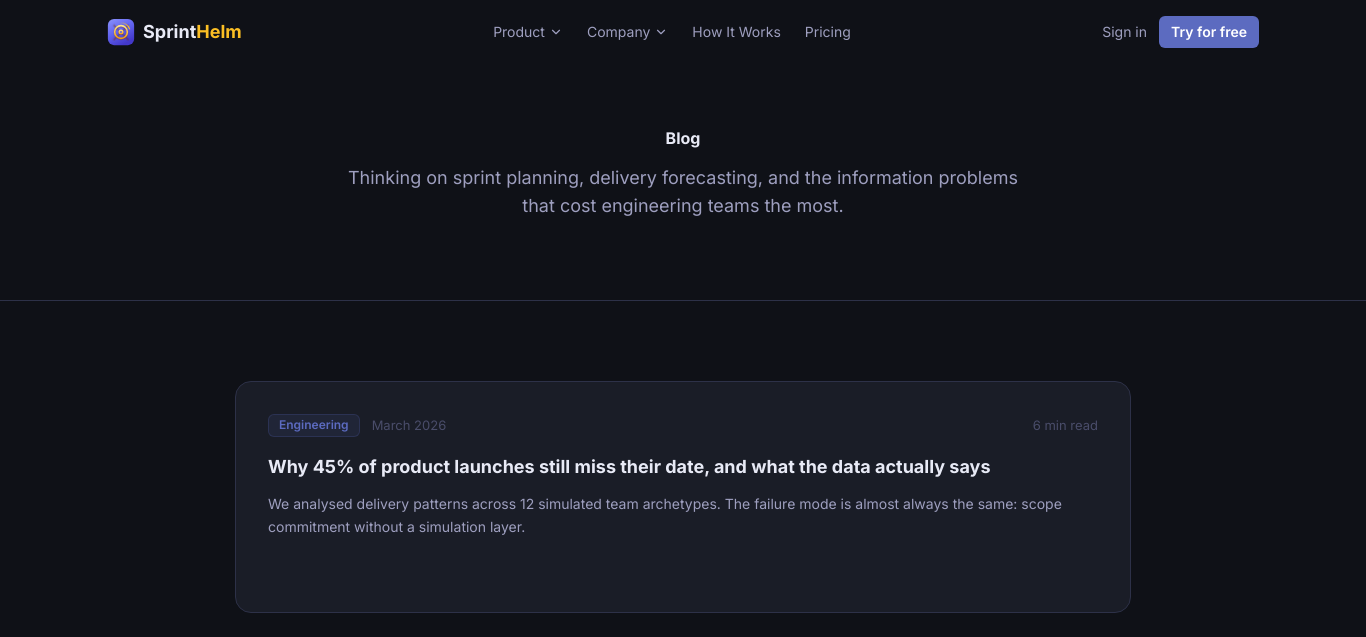
Test: Blog — post modal › modal contains the post title
The width and height of the screenshot is (1366, 637).
Step 1. Click the button that starts with "Engineering" → (683, 497), box [235,381,1131,613]
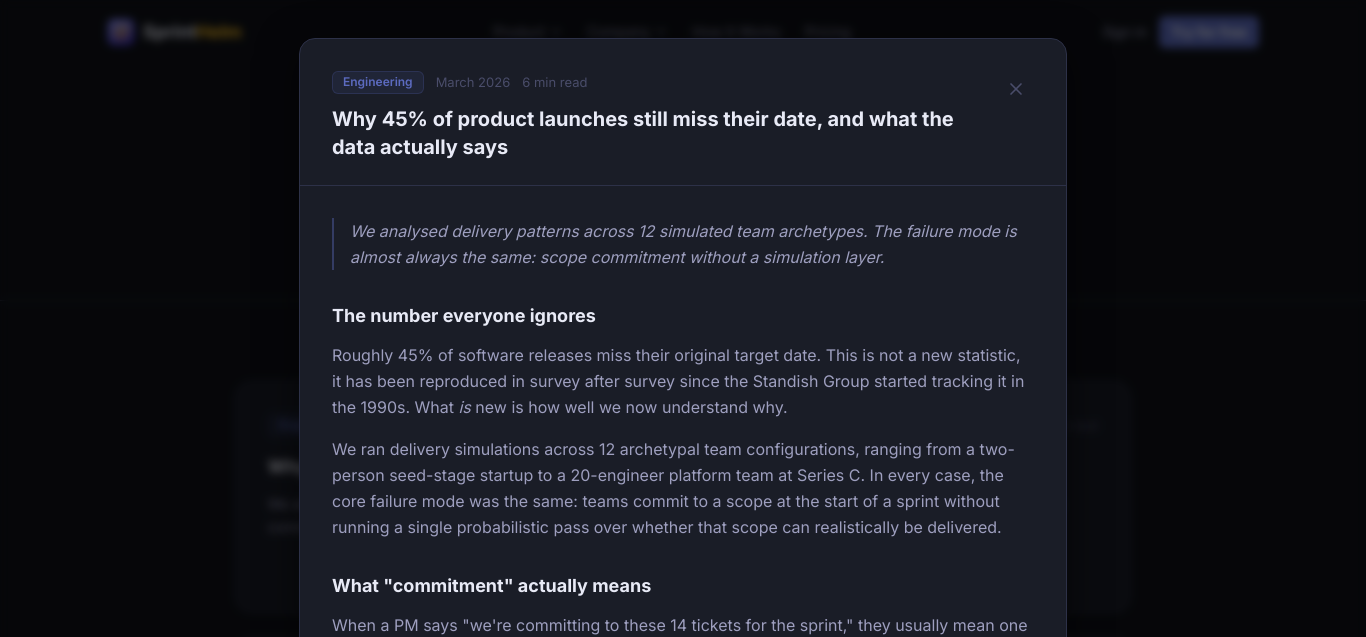
Result: the heading "Why 45% of product launches" is shown at [332,107,954,159]
